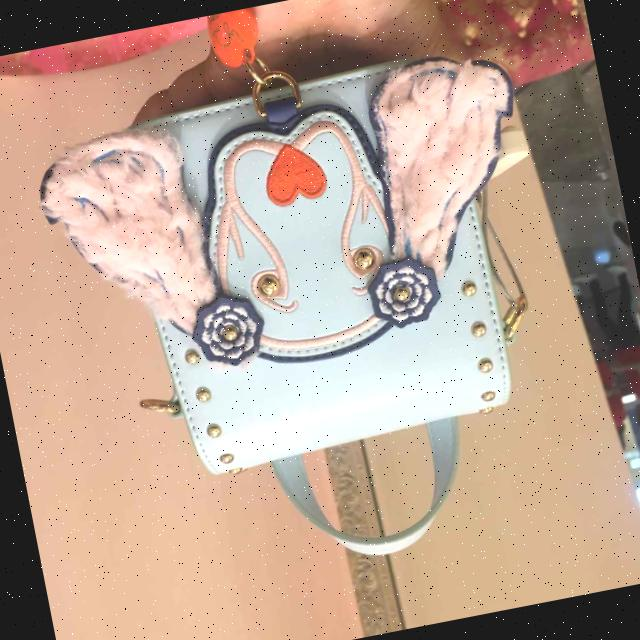handbag: (47, 14, 594, 542)
